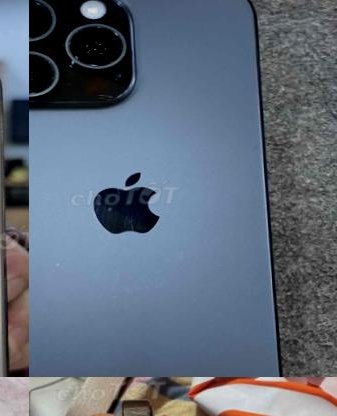physical_damage: (91, 90, 114, 98)
scratch: (120, 214, 136, 232), (52, 260, 61, 266)
